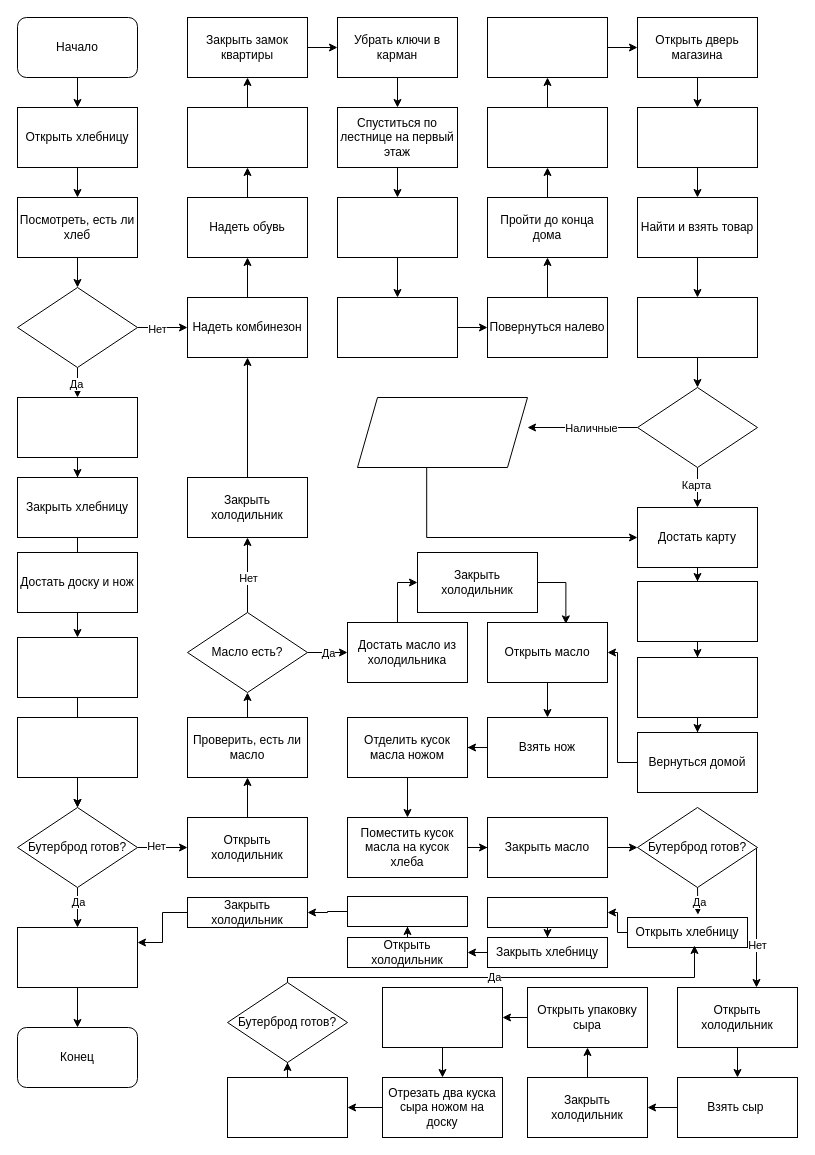
This 815x1155 diagram has some shape labels left out. Here are the shapes that lost their labels. From the top down, the centre of each, then its label:
At [547,47]: "Подняться по ступеням крыльца магазина".
At [247,137]: "Выйти из квартиры".
At [547,137]: "Обойти дом вдоль торца".
At [697,137]: "Зайти в магазин".
At [397,227]: "Открыть дверь подъезда".
At [77,327]: "Хлеб есть?".
At [397,327]: "Выйти из подъезда".
At [697,327]: "Оплатить товар на кассе".
At [77,427]: "Достать хлеб из хлебницы".
At [442,432]: "Уведомить кассира об отсутствии наличных".
At [697,427]: "Наличные или карта?".
At [697,611]: "Приложить к терминалу".
At [77,667]: "Положить хлеб на доску".
At [697,687]: "Забрать товар".
At [77,747]: "Ножом отрезать кусок хлеба на доске".
At [407,911]: "Убрать сыр и масло в холодильник".
At [547,912]: "Убрать хлеб в хлебницу".
At [77,957]: "Съесть бутерброд".
At [442,1017]: "Взять нож и доску".
At [287,1107]: "Поместить два куска сыра на кусок масла на куске хлеба".
